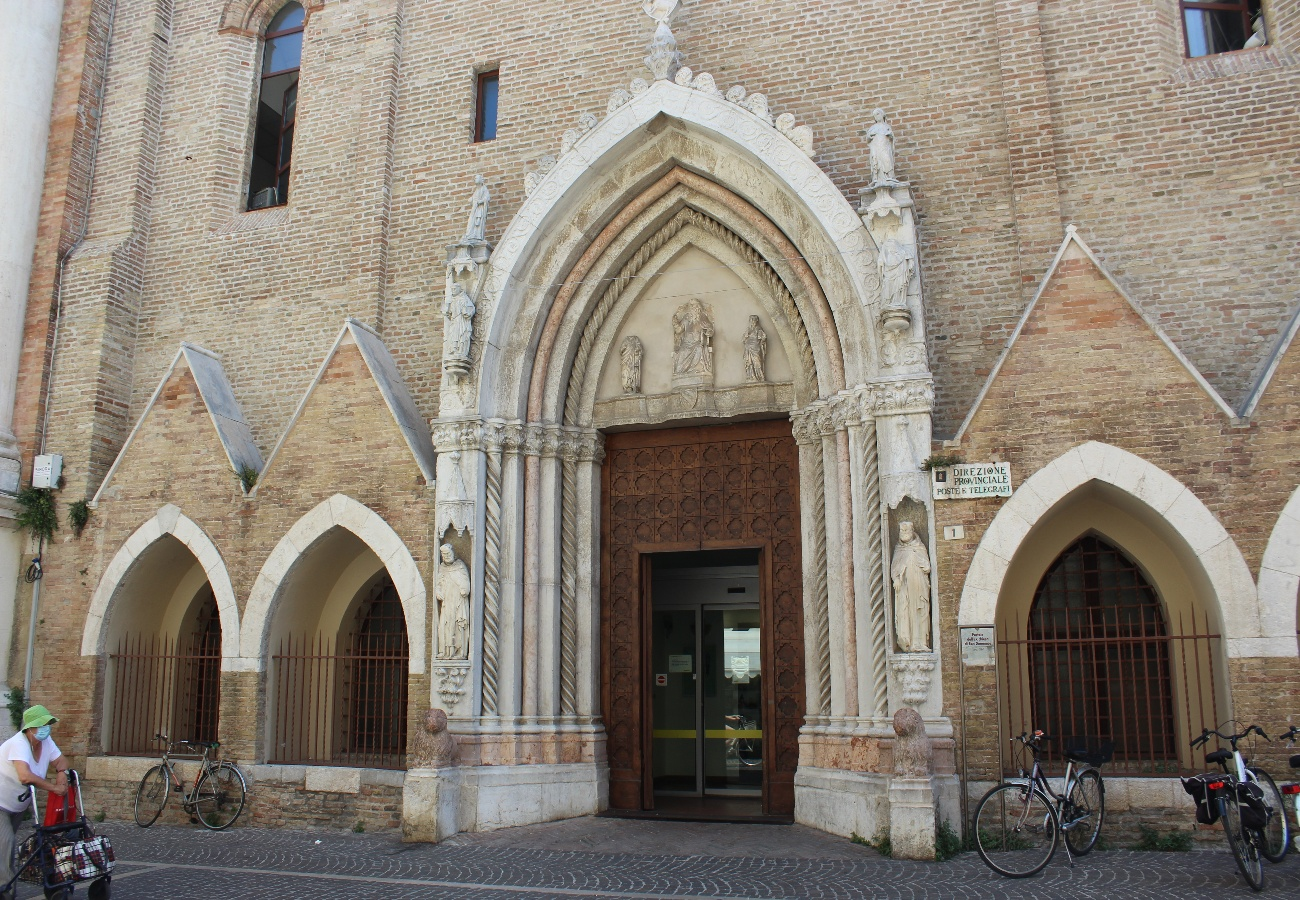Portale San Domenico: (415, 1, 942, 851)
